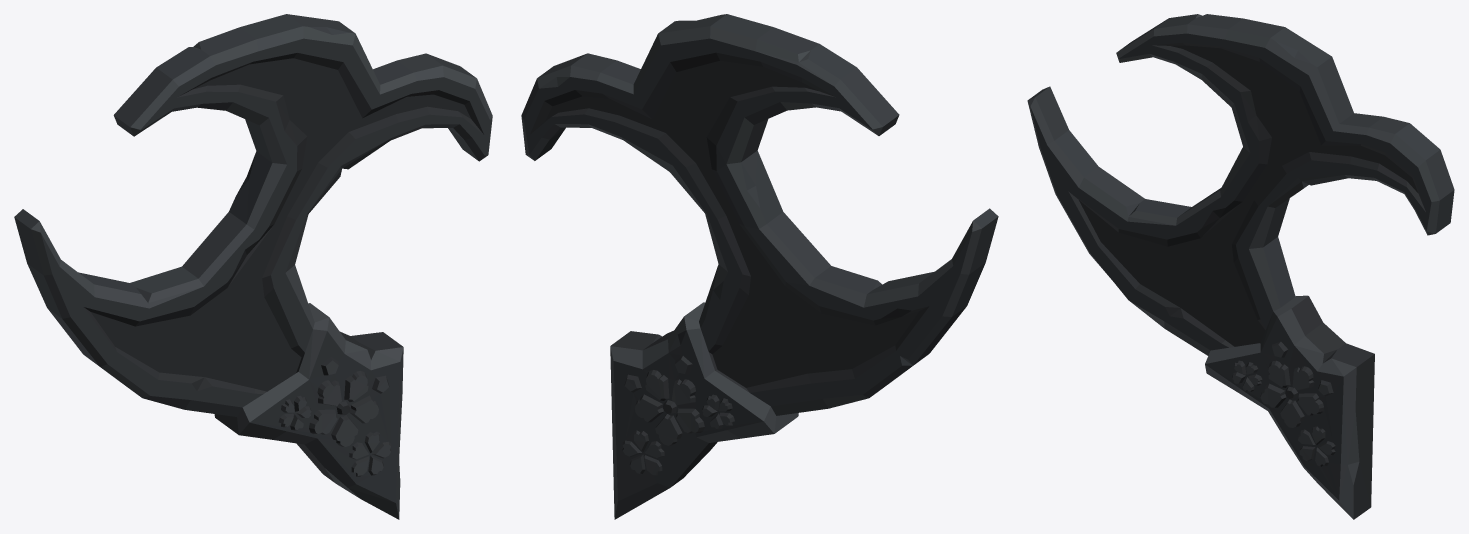
The model's file is SM_Bld_Ornament_01.fbx.
3 views of the same model, side by side, from view 1: azimuth 30°, elevation 25°; view 2: azimuth 150°, elevation 25°; view 3: azimuth 330°, elevation 25° (orthographic). The views are drawn at different scales.
Visible parts, largest first — view 1: SM_Bld_Ornament_01; view 2: SM_Bld_Ornament_01; view 3: SM_Bld_Ornament_01.
Part boxes in pixels (left/top/right/bottom): SM_Bld_Ornament_01: left=14, top=14, right=492, bottom=519; SM_Bld_Ornament_01: left=521, top=14, right=998, bottom=519; SM_Bld_Ornament_01: left=1027, top=14, right=1454, bottom=519.
Size of the model in its own units: 347 by 371 by 51.87.
